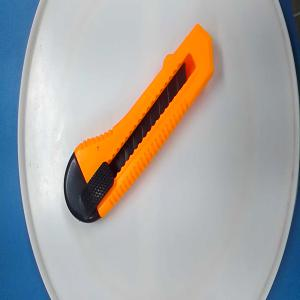estilete: (63, 23, 214, 224)
